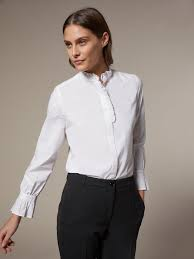F_shirt: (9, 62, 161, 217)
S_W_pants: (58, 174, 145, 257)
